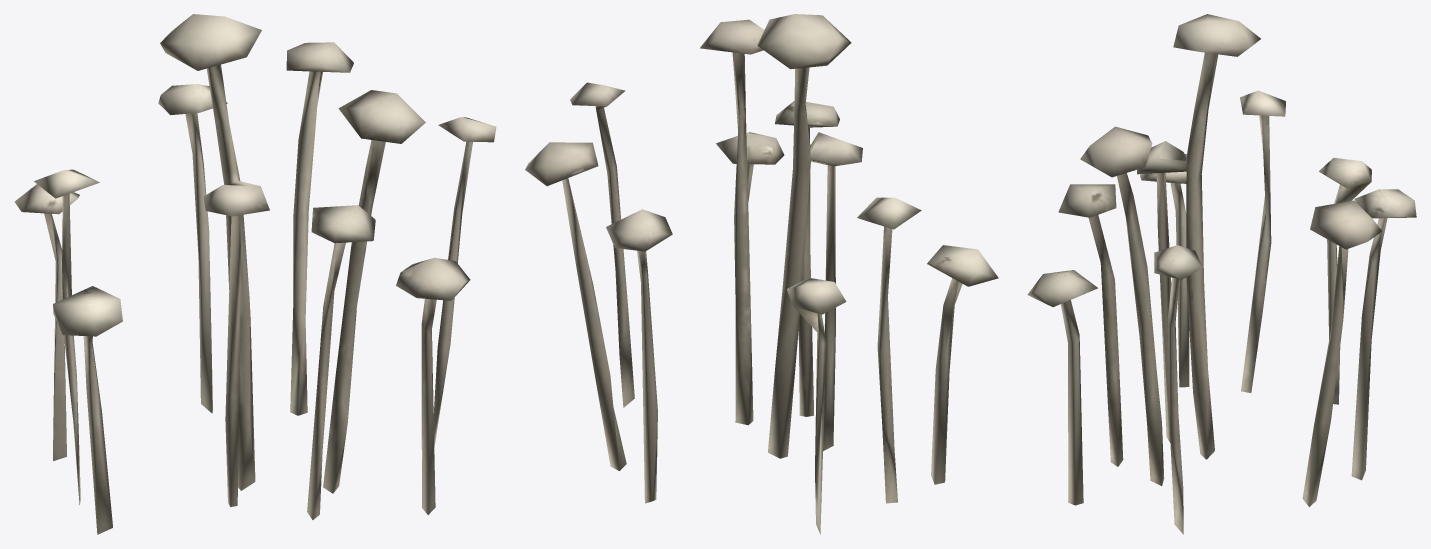
Rendered from mushgrass_a.glb.
3 views of the same model, side by side, from view 1: azimuth 30°, elevation 25°; view 2: azimuth 150°, elevation 25°; view 3: azimuth 270°, elevation 25° (orthographic). The views are drawn at different scales.
Visible parts, largest first — view 1: mushgrass; view 2: mushgrass; view 3: mushgrass.
Boxes of the visible parts, bbox=[...] form: mushgrass: bbox=[14, 14, 496, 534]; mushgrass: bbox=[525, 14, 998, 534]; mushgrass: bbox=[1027, 14, 1416, 534].
Size of the model in its own units: 0.1445 by 0.1483 by 0.1225.
1 material, 1 textured.
